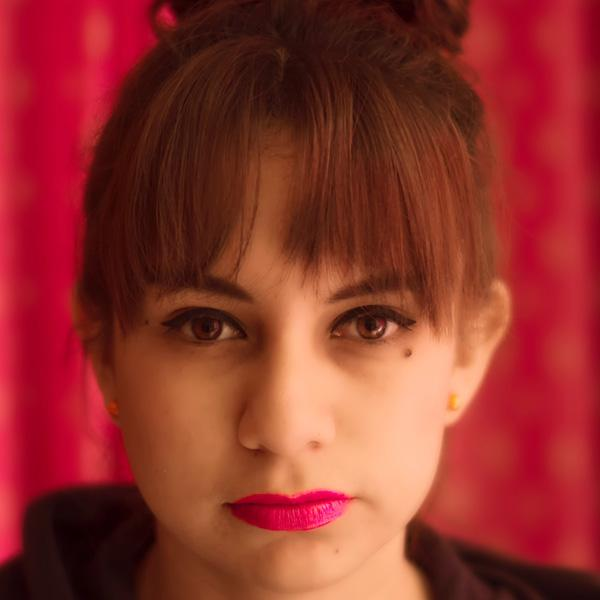Eyes: (319, 296, 425, 358), (154, 298, 254, 354)
